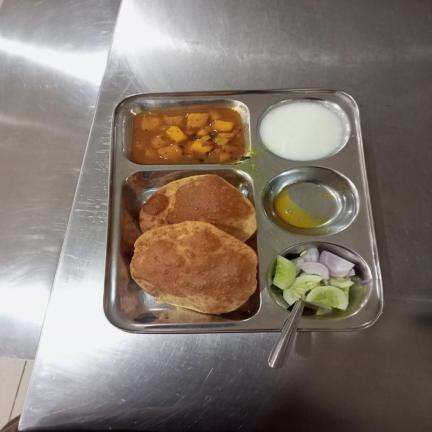Aalu Ki Sabji: (131, 106, 246, 164)
Dahi: (262, 101, 342, 158)
Plate: (103, 88, 383, 333)
Puri: (130, 175, 258, 314)
Salad: (273, 247, 355, 310)
